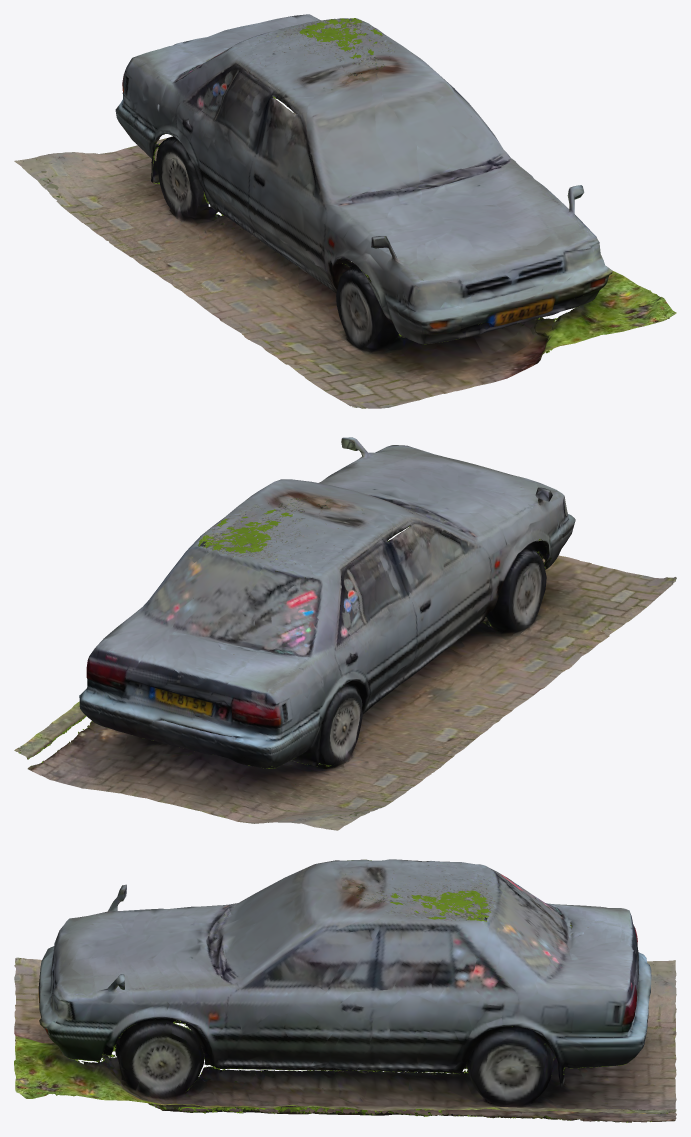
3 renders of one model, top to bottom at view 1: azimuth 30°, elevation 25°; view 2: azimuth 150°, elevation 25°; view 3: azimuth 270°, elevation 25°, orthographic. The views are drawn at different scales.
Parts seen in each view (by area): view 1: 3DModel; view 2: 3DModel; view 3: 3DModel.
Part boxes in pixels (box(x1,y1,x2,y2)): 3DModel: box(14, 14, 676, 408); 3DModel: box(14, 437, 676, 830); 3DModel: box(14, 859, 676, 1122).
Bounding box in the file's own units: 3.97 × 2.13 × 7.22.
1 material, 1 textured.
